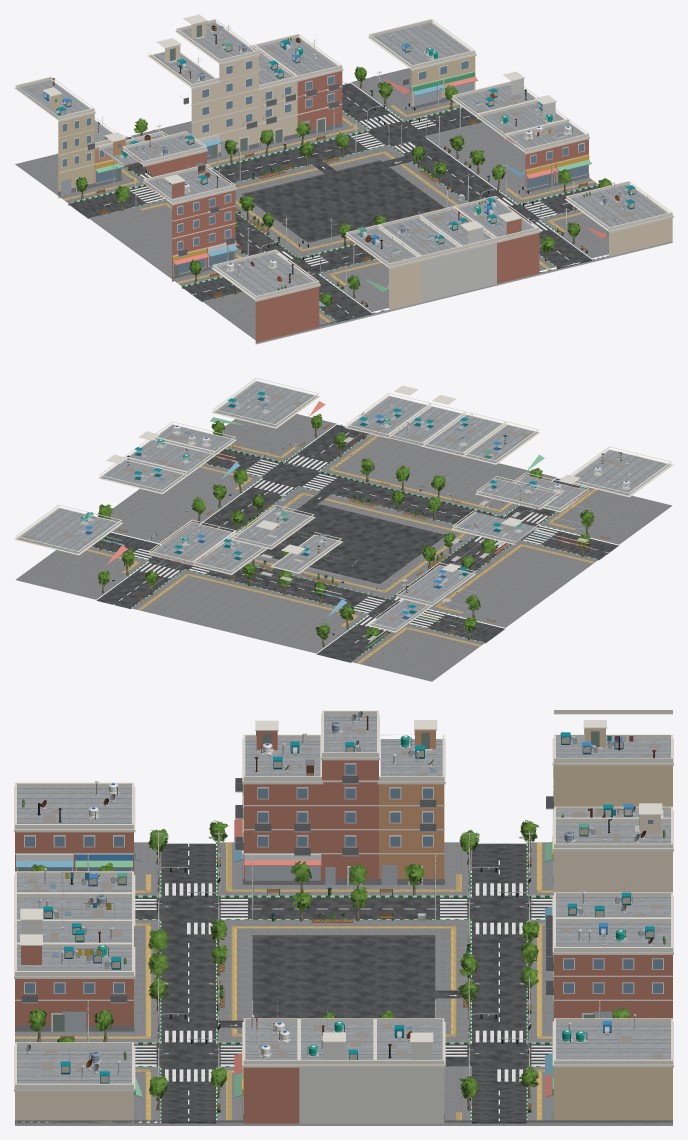
File: city_fixed.glb
3 views of the same model, one above another, from view 1: azimuth 30°, elevation 25°; view 2: azimuth 150°, elevation 25°; view 3: azimuth 270°, elevation 25° (orthographic). The views are drawn at different scales.
Parts seen in each view (by area): view 1: City_Chunk_SW, City_Chunk_NE, City_Chunk_NW, City_Chunk_SE; view 2: City_Chunk_NW, City_Chunk_SE, City_Chunk_SW, City_Chunk_NE; view 3: City_Chunk_NW, City_Chunk_SW, City_Chunk_NE, City_Chunk_SE.
Part boxes in pixels (left/top/right/bottom): City_Chunk_SW: left=135, top=140, right=464, bottom=344; City_Chunk_NE: left=249, top=19, right=548, bottom=202; City_Chunk_NW: left=14, top=14, right=343, bottom=252; City_Chunk_SE: left=344, top=95, right=673, bottom=293; City_Chunk_NW: left=224, top=480, right=552, bottom=681; City_Chunk_SE: left=135, top=378, right=463, bottom=543; City_Chunk_SW: left=344, top=411, right=673, bottom=593; City_Chunk_NE: left=14, top=437, right=343, bottom=630; City_Chunk_NW: left=344, top=710, right=673, bottom=982; City_Chunk_SW: left=14, top=710, right=343, bottom=982; City_Chunk_NE: left=344, top=884, right=673, bottom=1125; City_Chunk_SE: left=14, top=904, right=343, bottom=1125.
Size of the model in its own units: 72.37 by 19.03 by 72.24.
2 materials, 2 textured.
